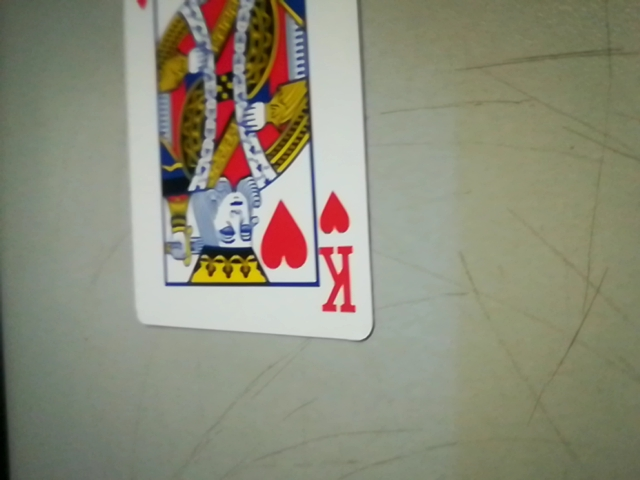hx k: (313, 186, 368, 330)
